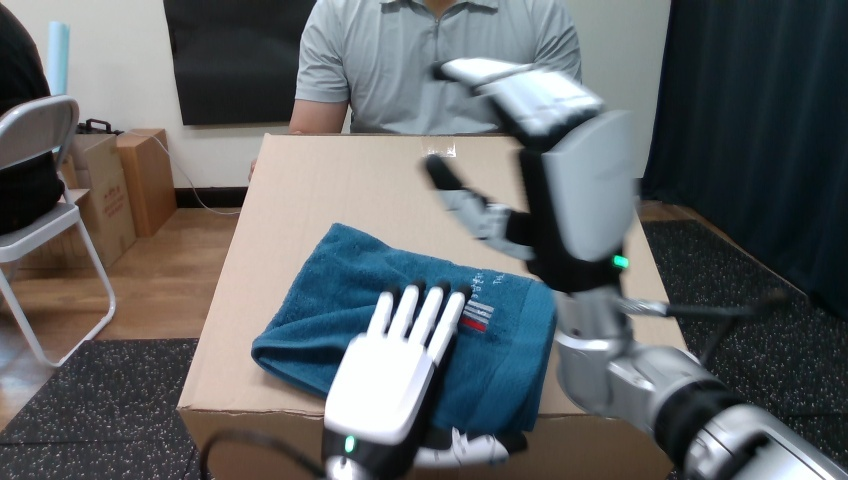left robot hand: (425, 58, 847, 479)
